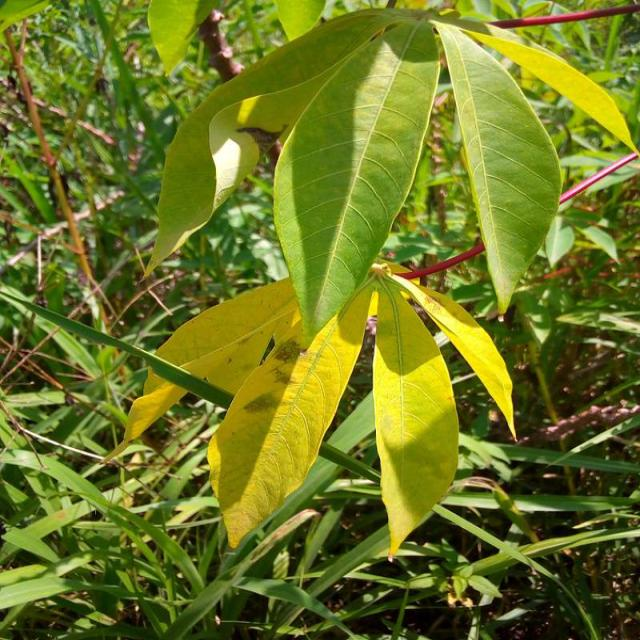cassava leaf: (271, 13, 440, 344), (206, 276, 372, 550), (429, 17, 562, 316), (103, 274, 300, 464), (371, 276, 459, 561)
